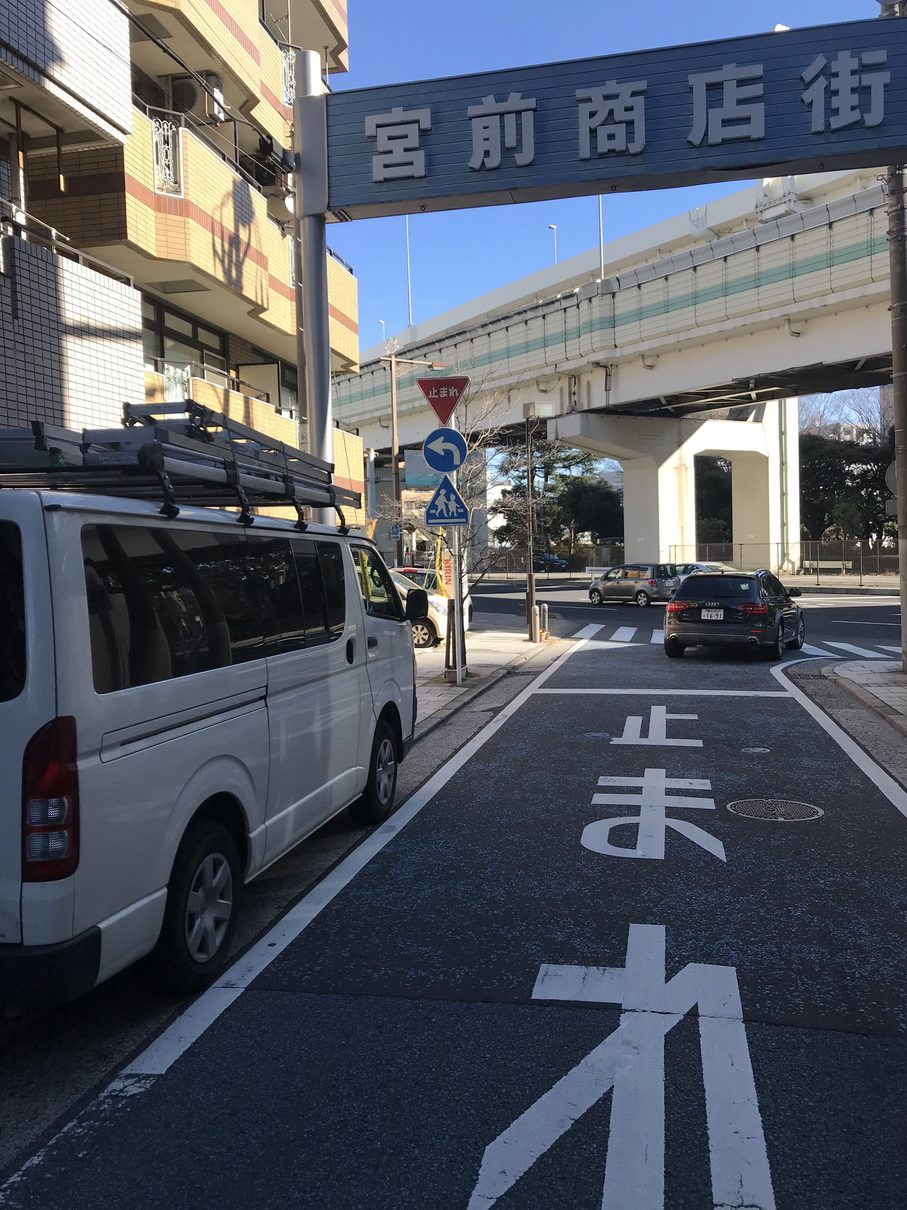stop_sign: (412, 376, 470, 426)
